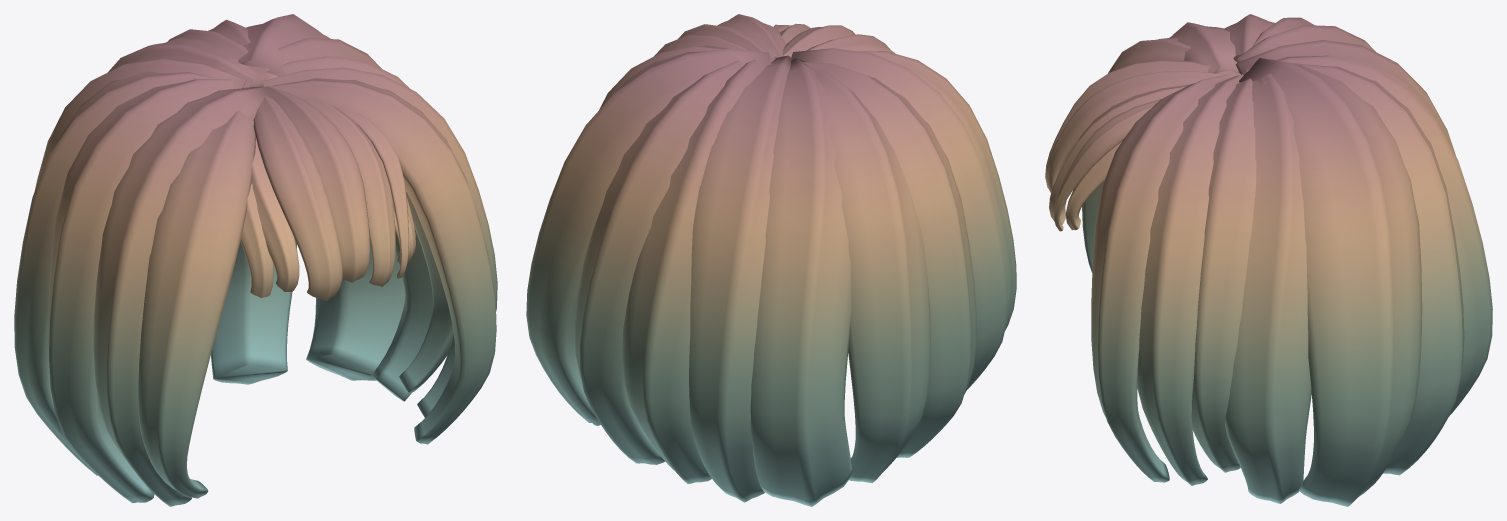
The model's file is hairb5.fbx.
The picture shows the model from 3 angles, left to right: view 1: azimuth 30°, elevation 25°; view 2: azimuth 150°, elevation 25°; view 3: azimuth 270°, elevation 25°; orthographic projection. The views are drawn at different scales.
Parts seen in each view (by area): view 1: NurbsPath.025; view 2: NurbsPath.025; view 3: NurbsPath.025.
Boxes of the visible parts, x1=… form: NurbsPath.025: x1=14, y1=14, x2=497, y2=506; NurbsPath.025: x1=526, y1=14, x2=1016, y2=506; NurbsPath.025: x1=1045, y1=14, x2=1492, y2=506.
Bounding box in the file's own units: 305 × 319 × 302.
